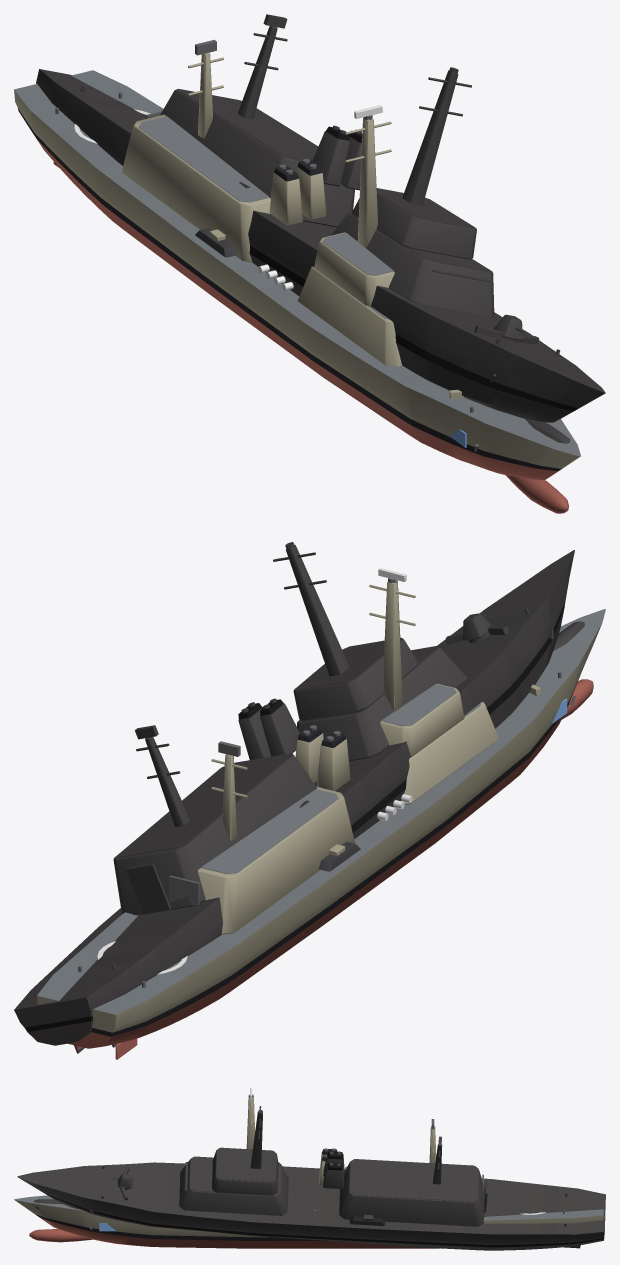
The model's file is corvette__sa_ar_5.glb.
3 views of the same model, one above another, from view 1: azimuth 30°, elevation 25°; view 2: azimuth 150°, elevation 25°; view 3: azimuth 270°, elevation 25° (orthographic). The views are drawn at different scales.
Parts seen in each view (by area): view 1: Hull_Mesh, Wreck; view 2: Hull_Mesh, Wreck; view 3: Wreck, Hull_Mesh.
Part boxes in pixels (bbox=[...]): Hull_Mesh: bbox=[14, 39, 580, 513]; Wreck: bbox=[36, 14, 605, 443]; Hull_Mesh: bbox=[37, 580, 605, 1059]; Wreck: bbox=[14, 542, 584, 1053]; Wreck: bbox=[17, 1106, 605, 1250]; Hull_Mesh: bbox=[14, 1097, 603, 1248].
Size of what is drawn, in the model's own units: 16.8 by 26.38 by 89.57.
